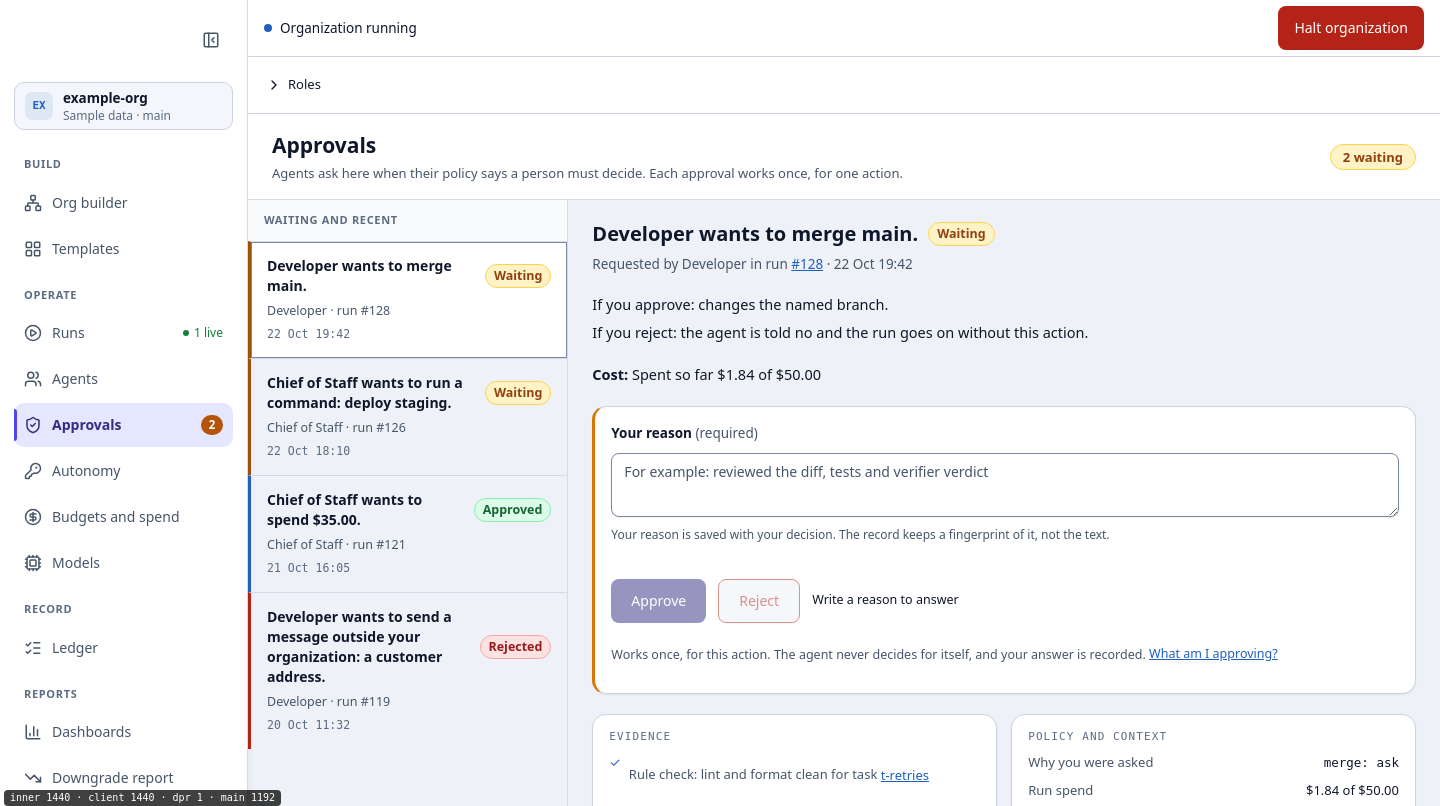
it: Approvals › tells a sole decider whose action changed to reload (SA-5, action_changed)
Type "ok merge" into the text box labelled "Your reason (required)" at x=1005, y=485, box [611,453,1399,517]
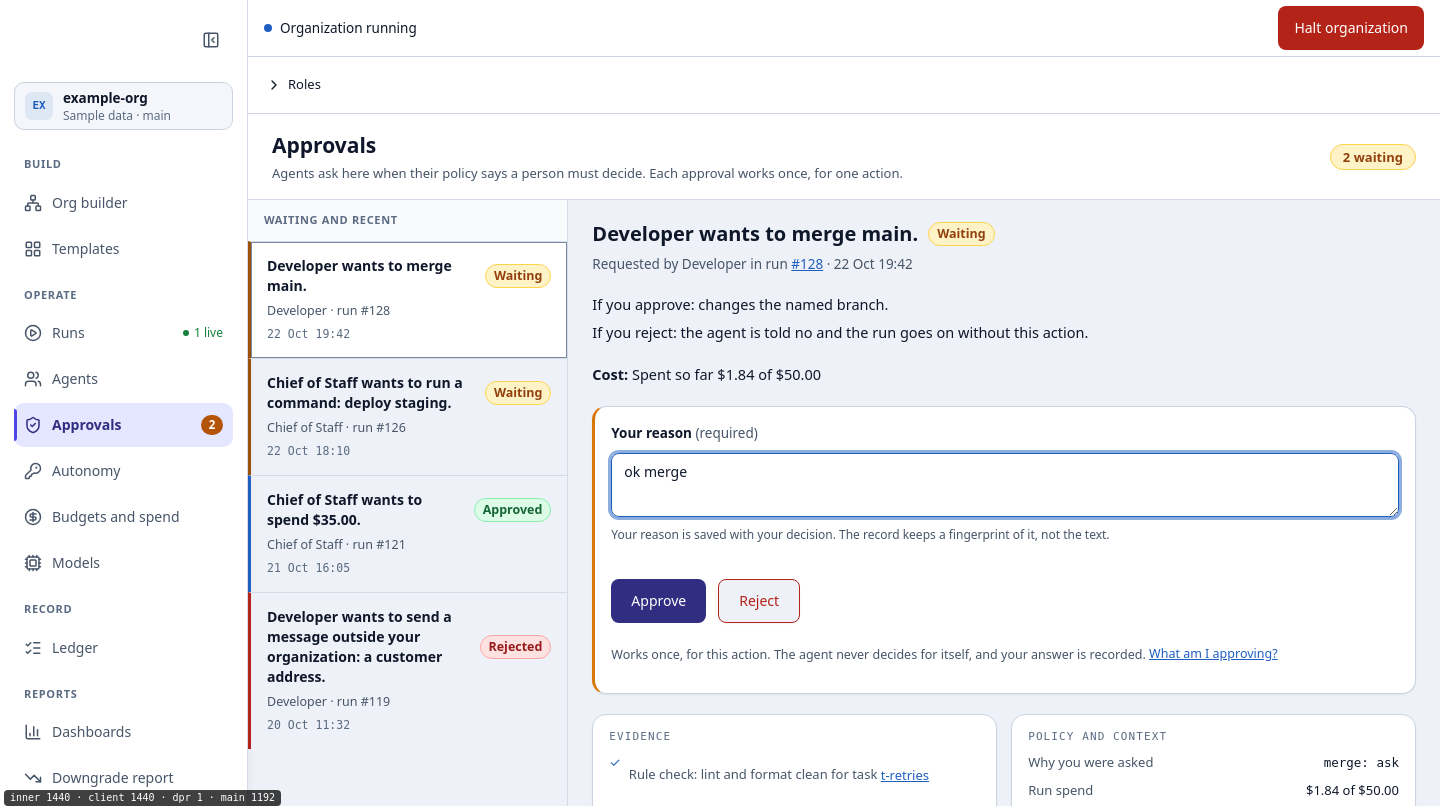
Click the button "Approve" at x=659, y=601, box [611,579,706,623]
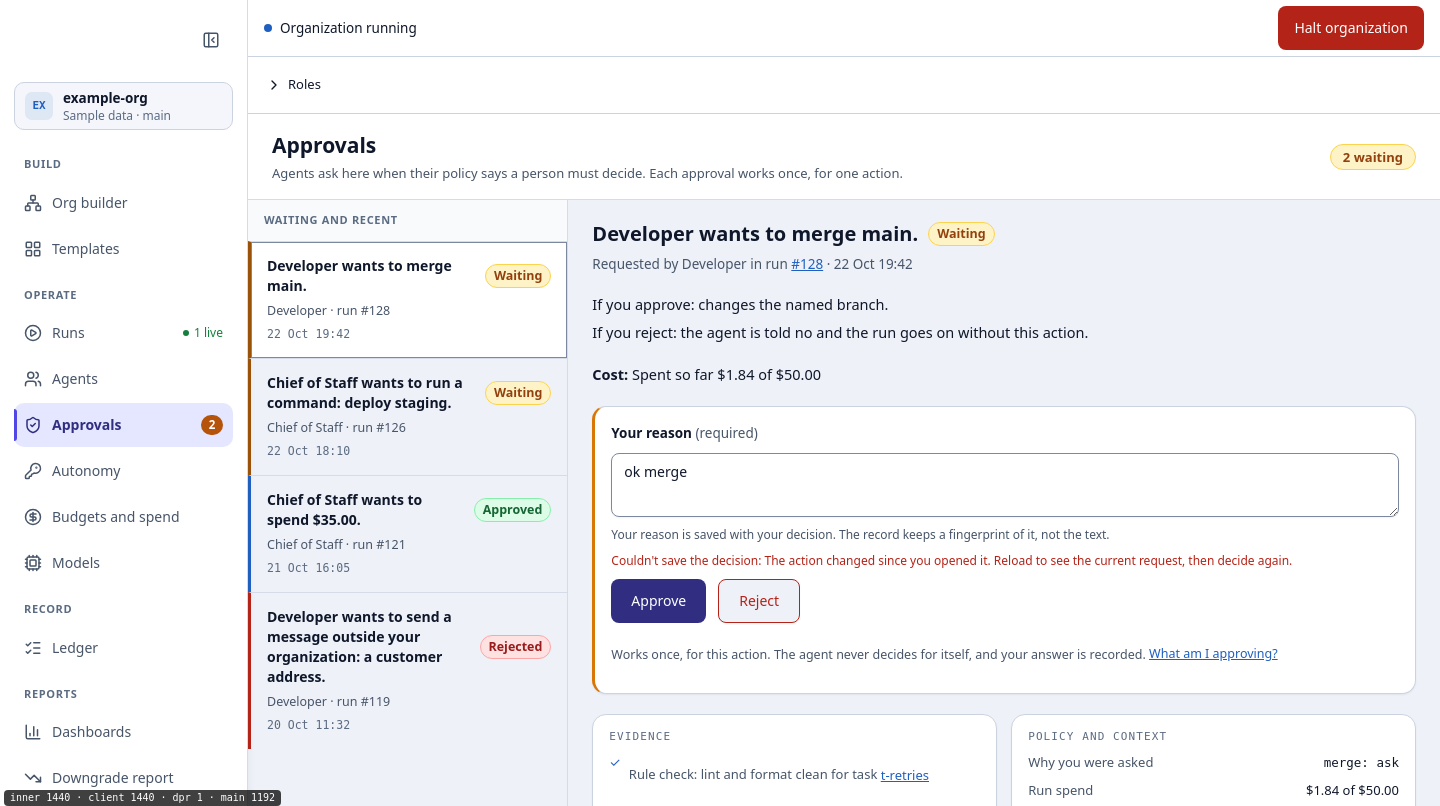
Now the message shows "The action changed since you opened it. Reload", box [611,552,1292,569]
